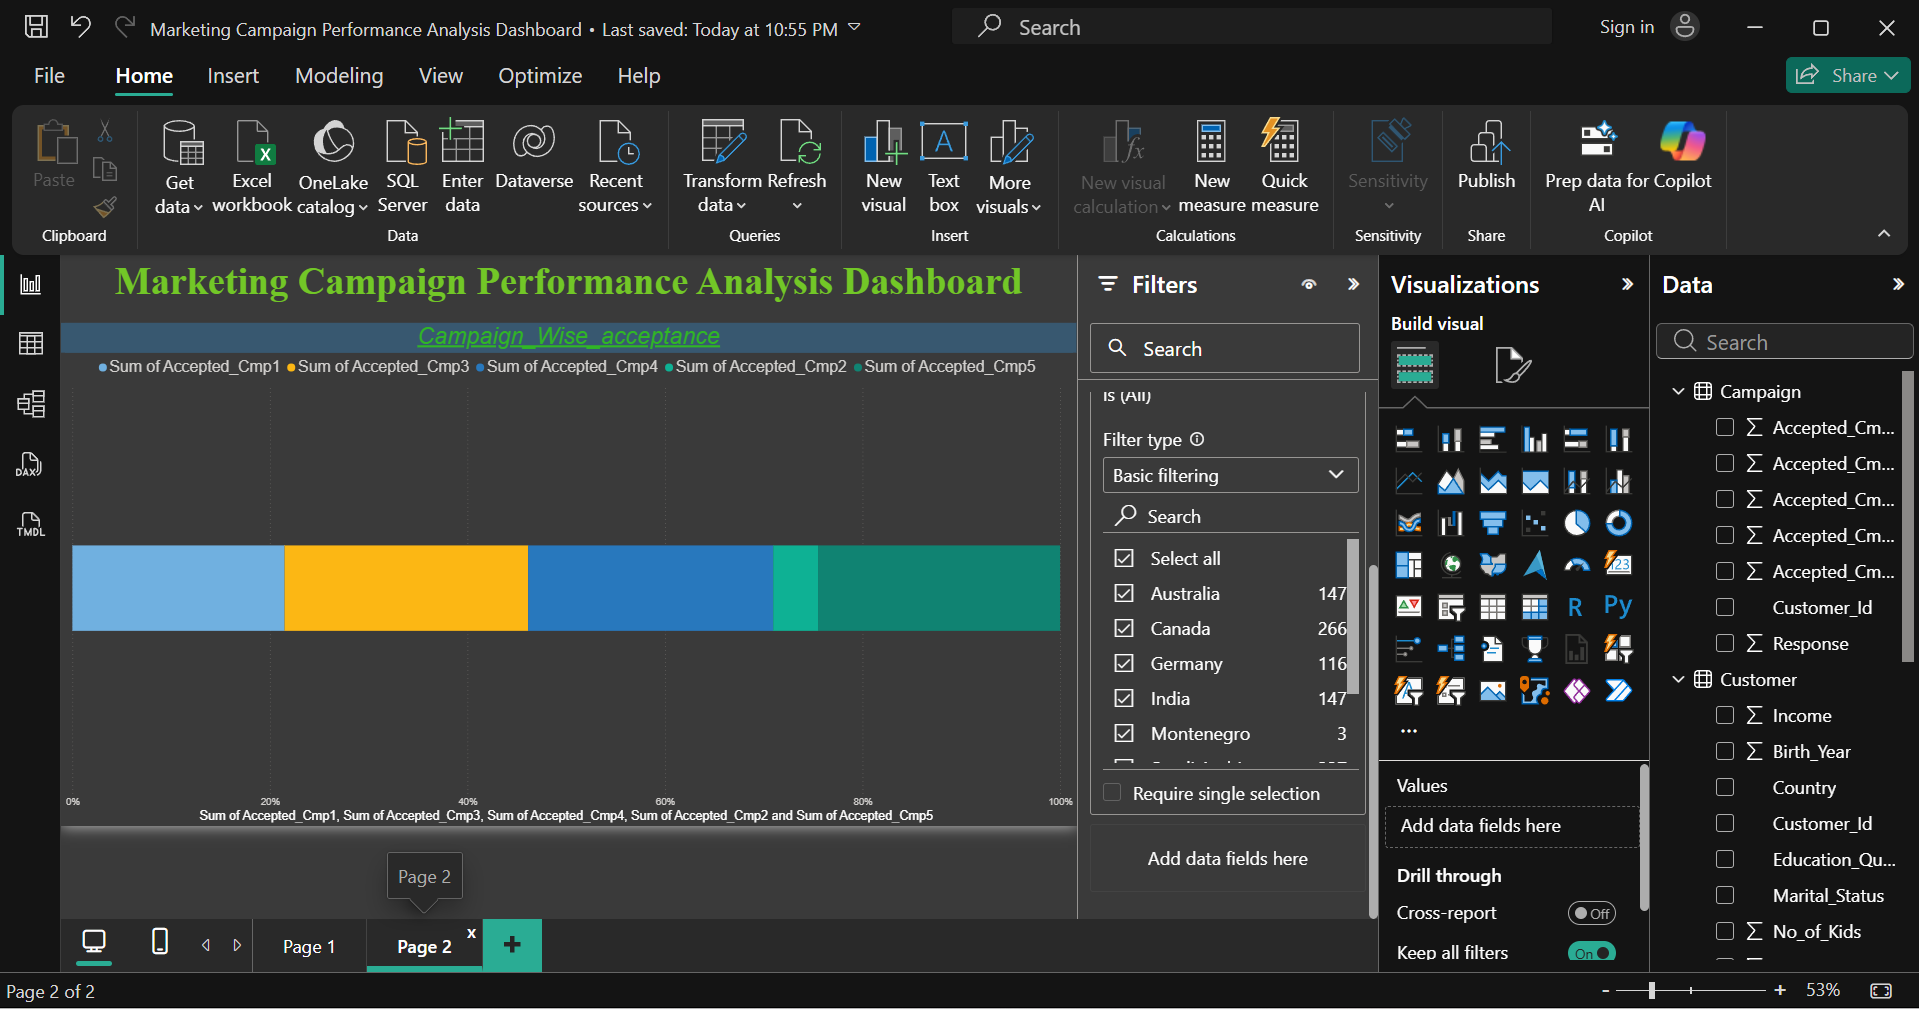

What the dashboard file says about the page in this screenshot:
{"tool":"powerbi","page":{"name":"Page 2","canvas":[1280,720],"ordinal":1},"visuals":[{"type":"hundredPercentStackedBarChart","title":"Campaign_Wise_acceptance","fields":{"Y":["Sum(Campaign.Accepted_Cmp1)","Sum(Campaign.Accepted_Cmp3)","Sum(Campaign.Accepted_Cmp4)","Sum(Campaign.Accepted_Cmp2)","Sum(Campaign.Accepted_Cmp5)"]},"box":[0,85,1279.4,635],"z":0},{"type":"textbox","box":[0,0,1279.4,85],"z":1000}]}

Visuals, with their boxes on the page's 1280x720 design canvas (x1, y1, x2, y2). These are canvas units, not pixel positions in the 1919x1009 screenshot, which may show the page scaled, cropped or inside an application window:
"Campaign_Wise_acceptance" hundredPercentStackedBarChart: 0, 85, 1279, 720
textbox: 0, 0, 1279, 85
